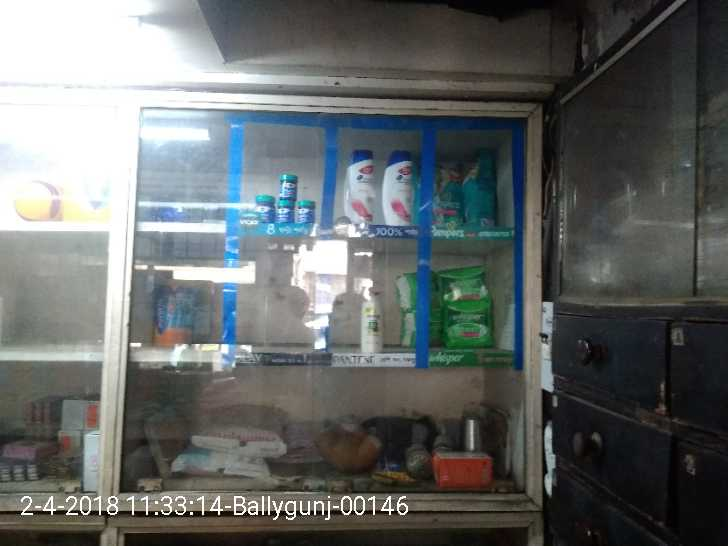vicks: (252, 171, 316, 223)
